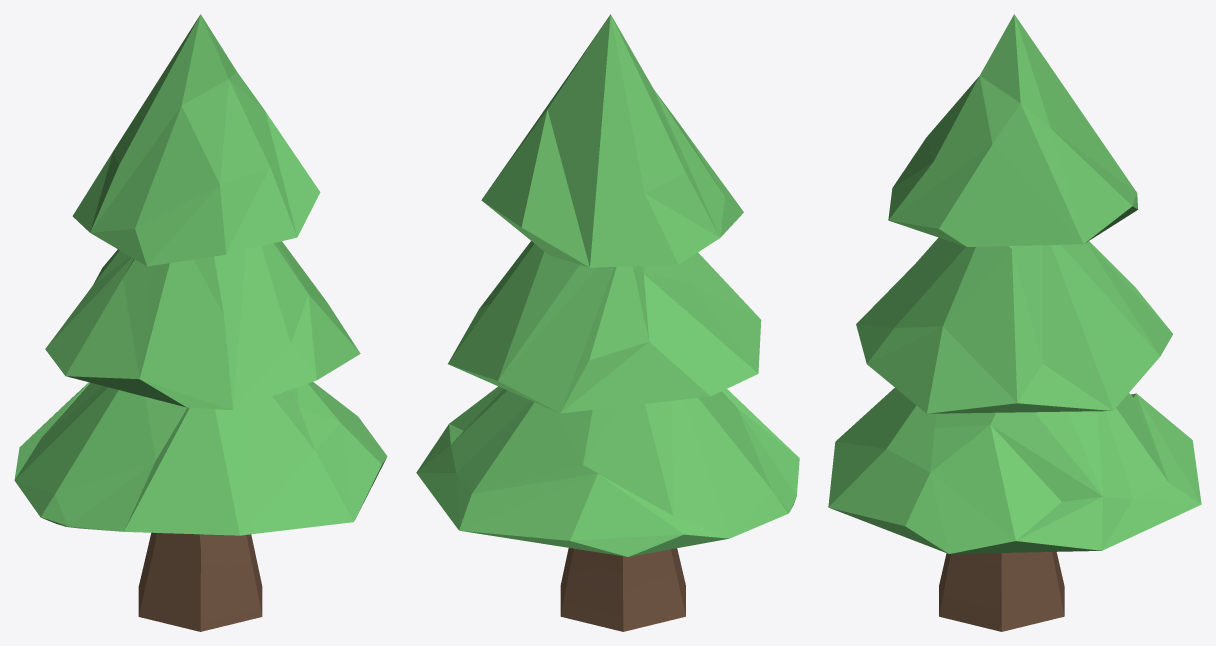
Rendered from Arbre_Large_4.fbx.
The picture shows the model from 3 angles, left to right: view 1: azimuth 30°, elevation 25°; view 2: azimuth 150°, elevation 25°; view 3: azimuth 270°, elevation 25°; orthographic projection.
Parts seen in each view (by area): view 1: pCylinder7, pCylinder10; view 2: pCylinder7, pCylinder10; view 3: pCylinder7, pCylinder10.
Part boxes in pixels (<box>): pCylinder7: <box>14,14,387,535</box>; pCylinder10: <box>138,532,262,631</box>; pCylinder7: <box>416,14,799,556</box>; pCylinder10: <box>560,548,685,631</box>; pCylinder7: <box>828,14,1201,553</box>; pCylinder10: <box>939,552,1064,631</box>.
Size of the model in its own units: 2.26 by 3.85 by 2.2.
